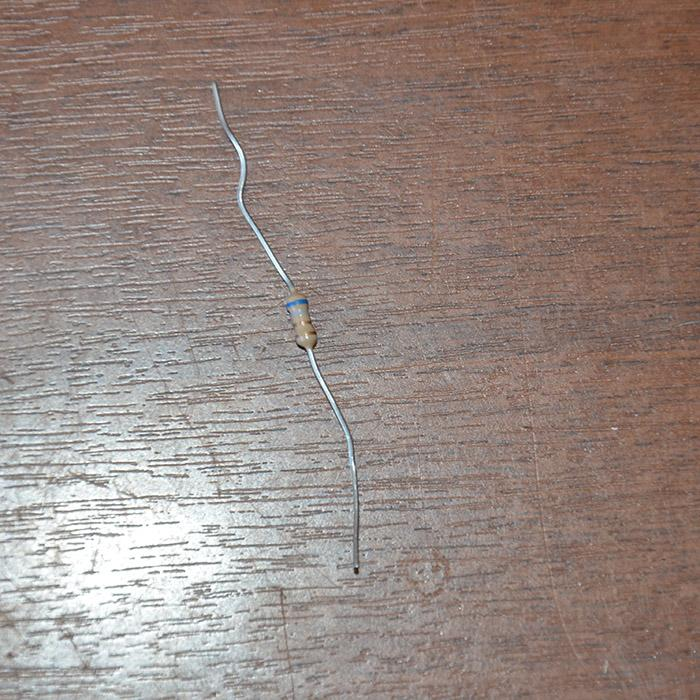resistor: (282, 288, 317, 348)
